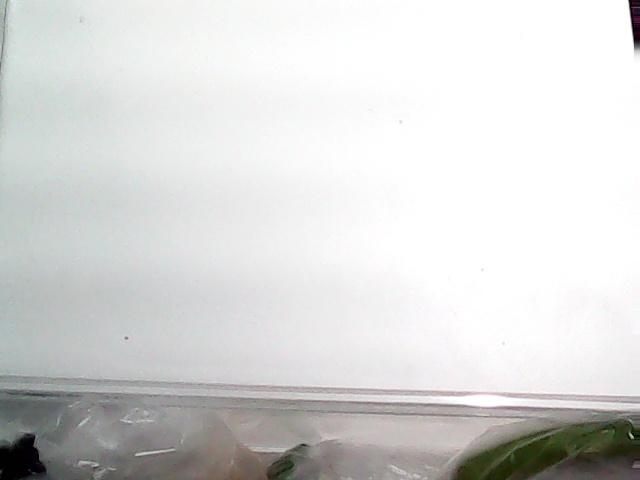pepper: (436, 403, 640, 480)
radish: (263, 439, 441, 480)
